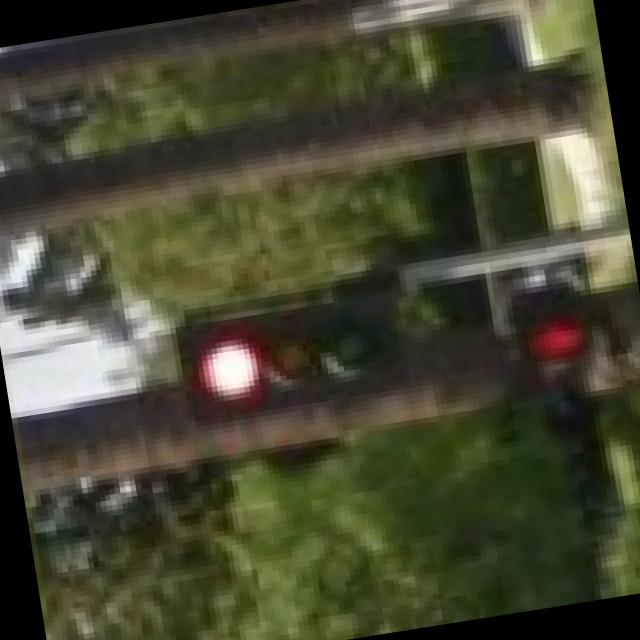red-lights: (174, 320, 275, 425), (506, 310, 606, 374)
